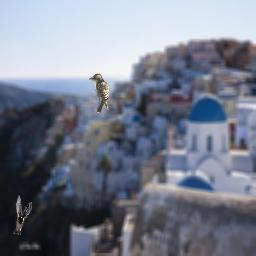Swallow: (13, 195, 32, 235)
Woodpecker: (89, 73, 109, 113)
